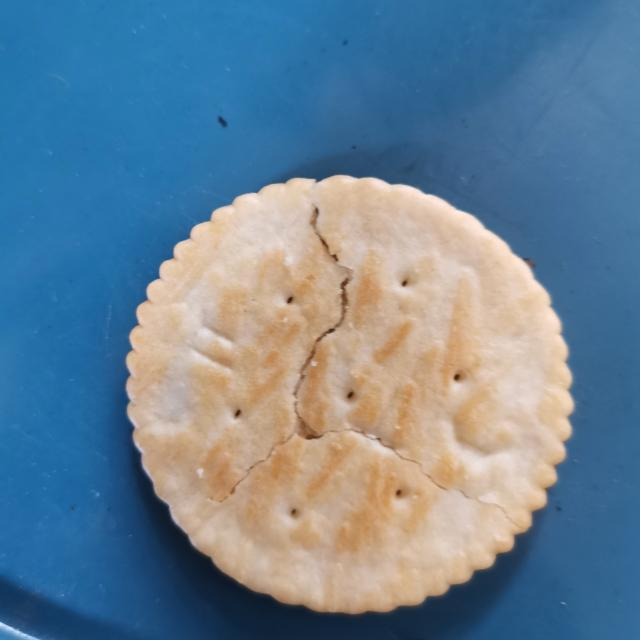Fracture: (163, 179, 543, 544)
